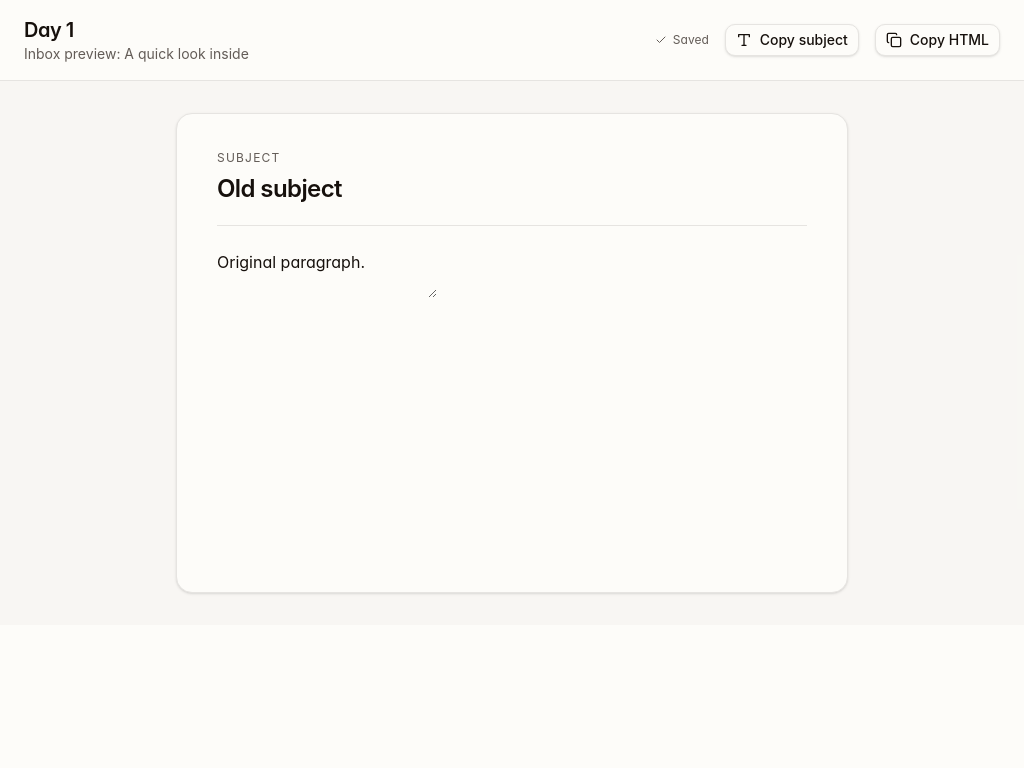
Test case: EmailPreview: an AI edit to one field › keeps body words typed just before a subject-only edit lands, and saves both
Replace the text in the text box named "Body" with "Original paragraph. Last words." at (327, 274), box [217, 250, 437, 298]
Wait 1300 ms
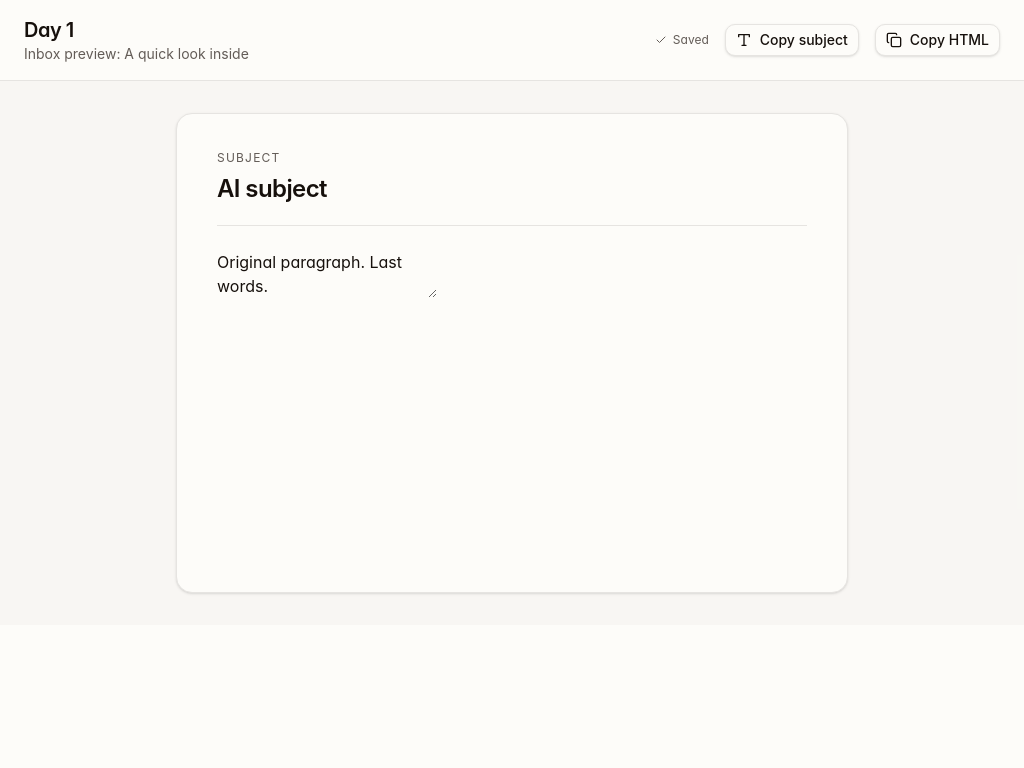
Now the text box named "subject" holds "AI subject", box [217, 172, 807, 205]
